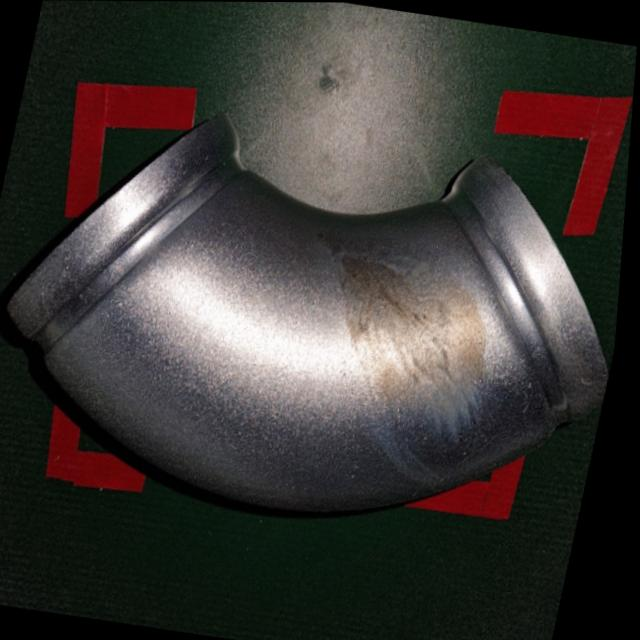Burn: (298, 228, 514, 464)
Defect: (0, 81, 635, 568)
